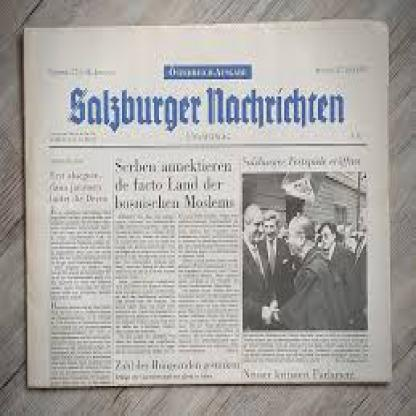paper: (21, 15, 392, 382)
